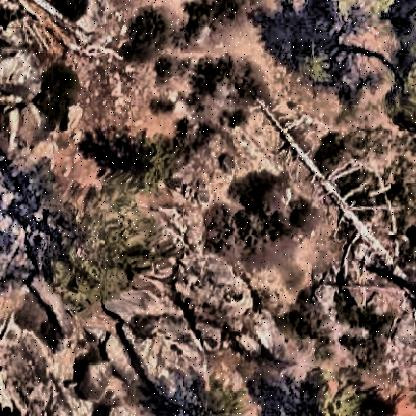tree-top: (30, 188, 154, 306), (166, 367, 260, 416), (295, 366, 376, 416), (287, 32, 351, 94), (113, 132, 181, 190)
